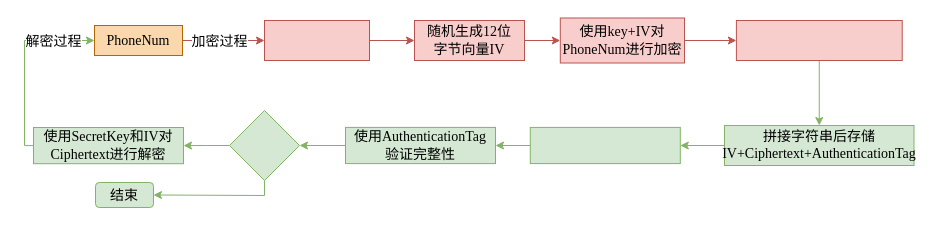
Image size: 934x225. Some labels were removed from this diagram. Here are the shapes that lost their labels. From the top down, the centre of each, then its label:
point (317, 40): 获取管理员配置的 SecretKey
point (818, 40): 得到 Ciphertext(11 字节 ) AuthenticationTag (16字节)
point (264, 145): 数据一致
point (604, 145): 分离 IV、Ciphertext、AuthenticationTag
